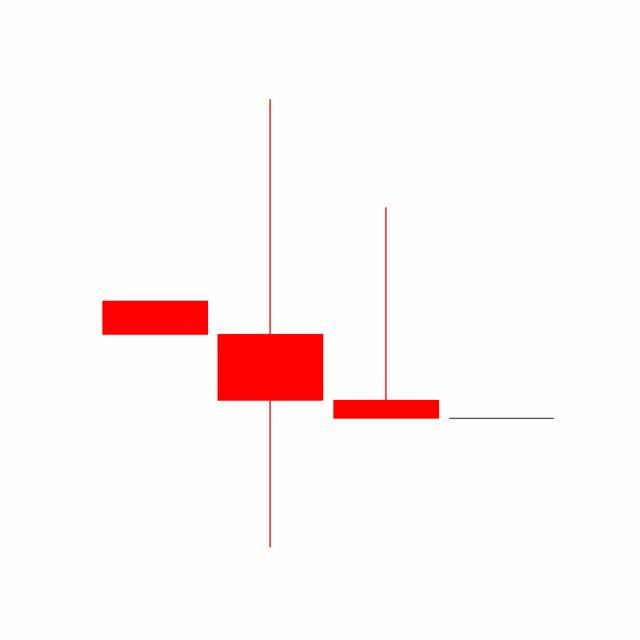Gravestone Doji: (329, 206, 445, 422)
